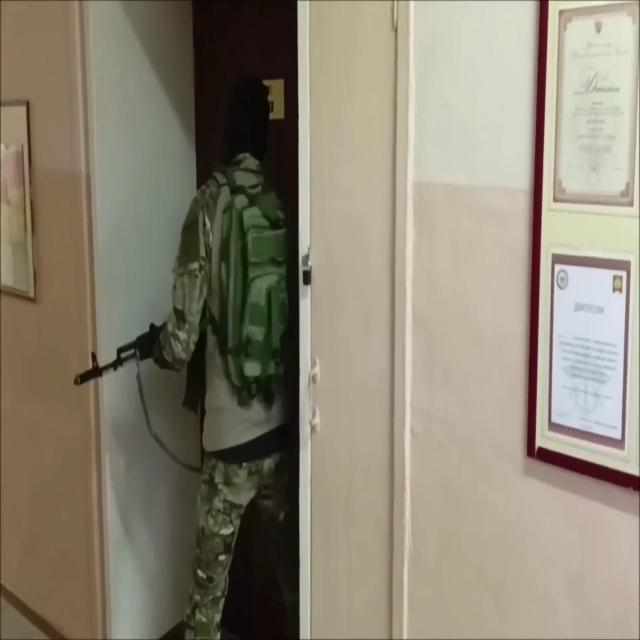pistol: (72, 310, 206, 416)
